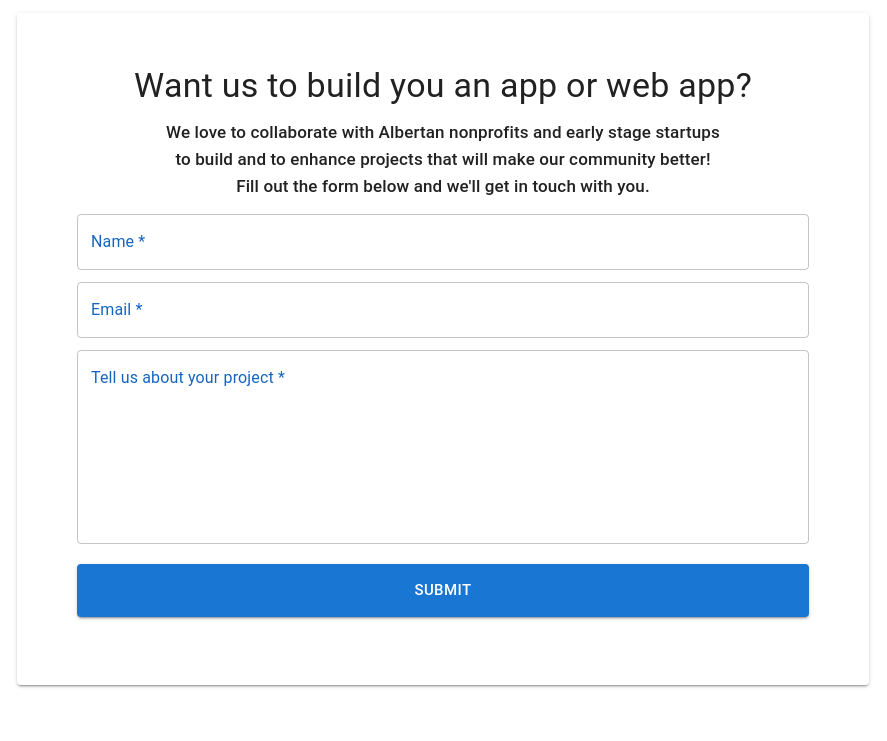
Test case: Check if project info box gives error for less information about a project
Type "this information" into the text box labelled "Tell us about your project *". click: coordinates (443, 447)
box: [91,367,795,528]
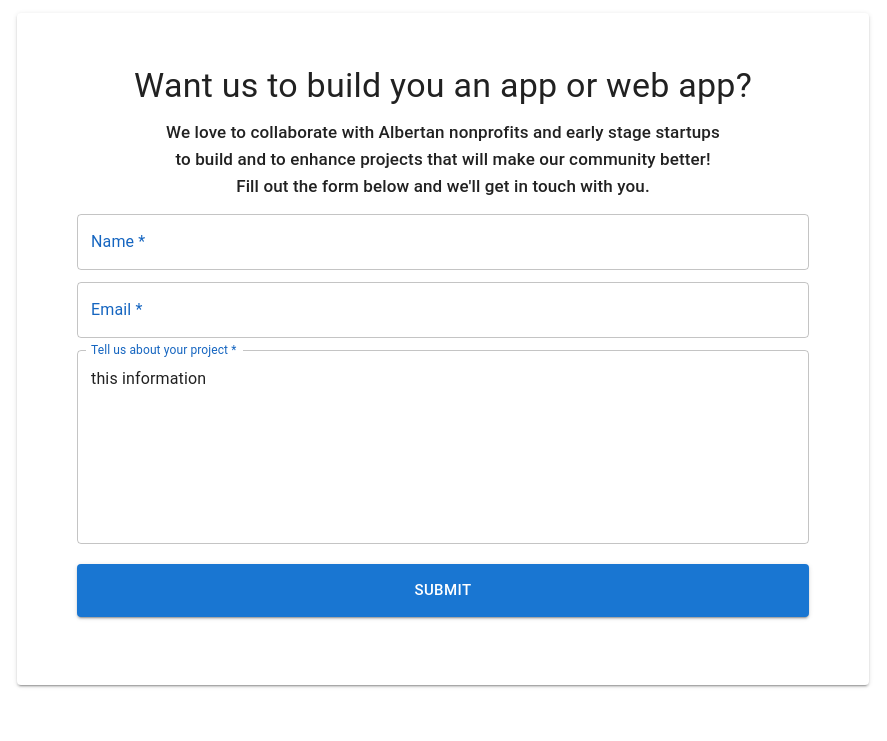
Click the button "Submit". click: coordinates (443, 591)
box: [77,564,809,617]
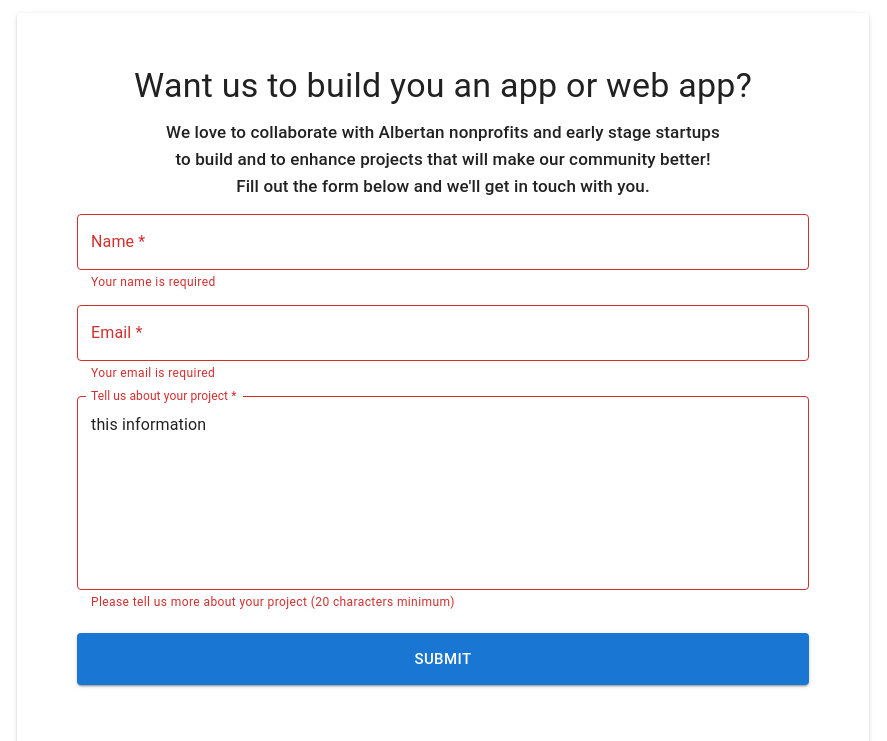
expect the text "Please tell us more about your project (20 characters minimum)" is shown: met, box [91,595,455,609]
